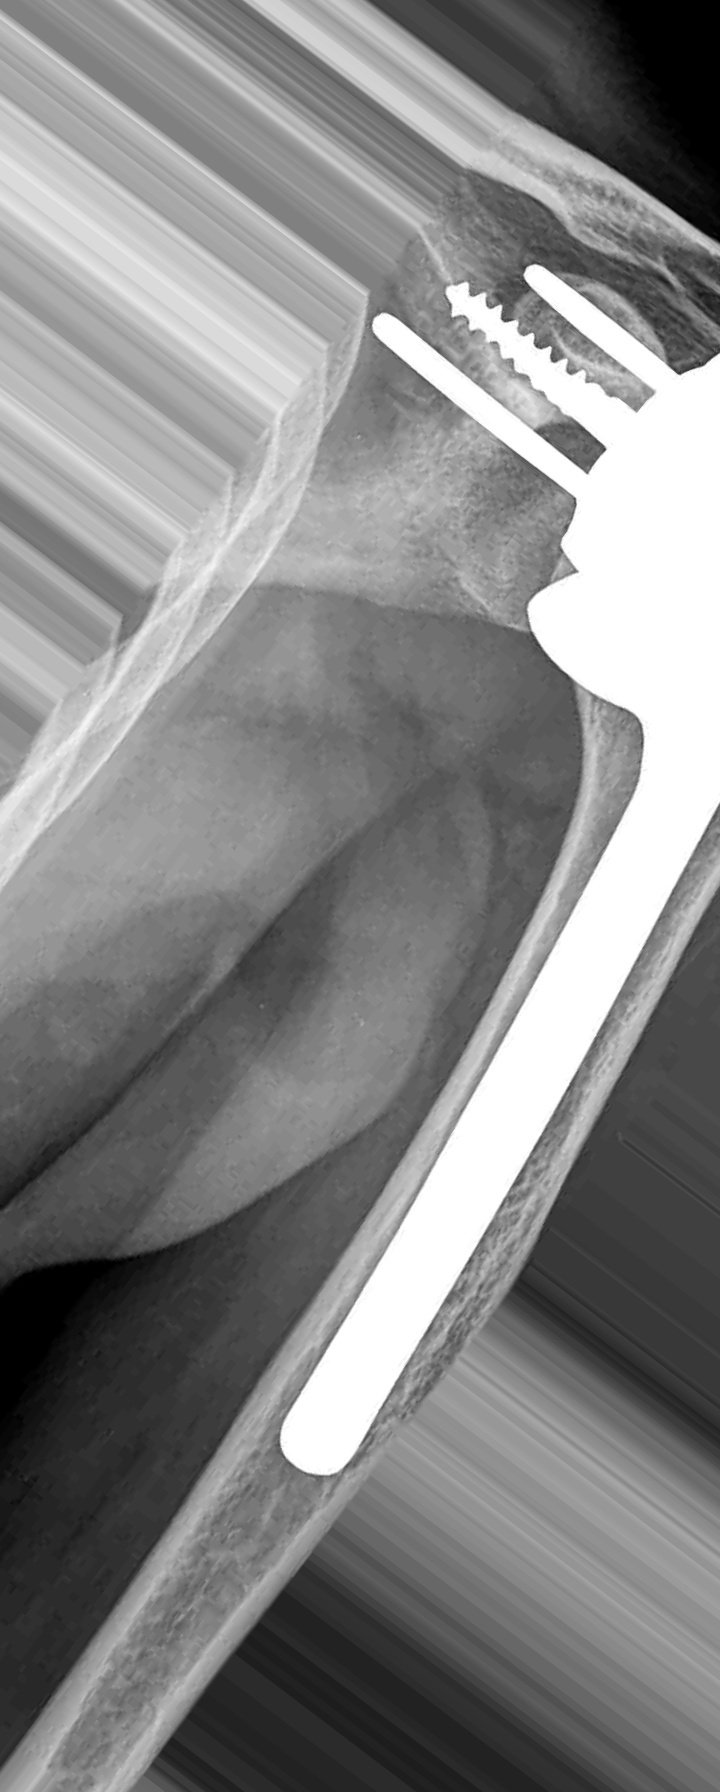Shoulder-Reverse-DJO: (211, 209, 720, 1471)
